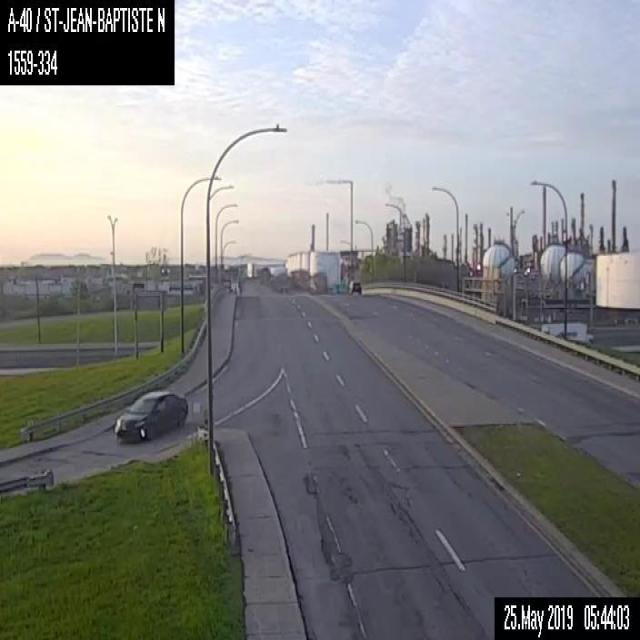vehicle: (114, 387, 188, 440), (348, 281, 363, 295)
